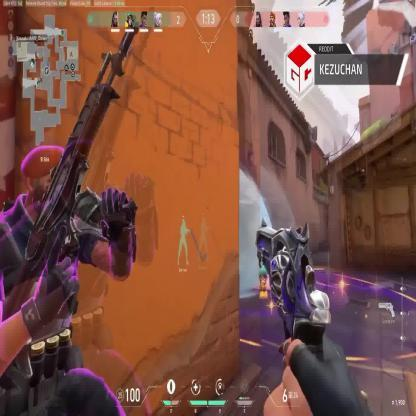enemy: (0, 145, 138, 416)
enemy_head: (20, 143, 74, 216)
